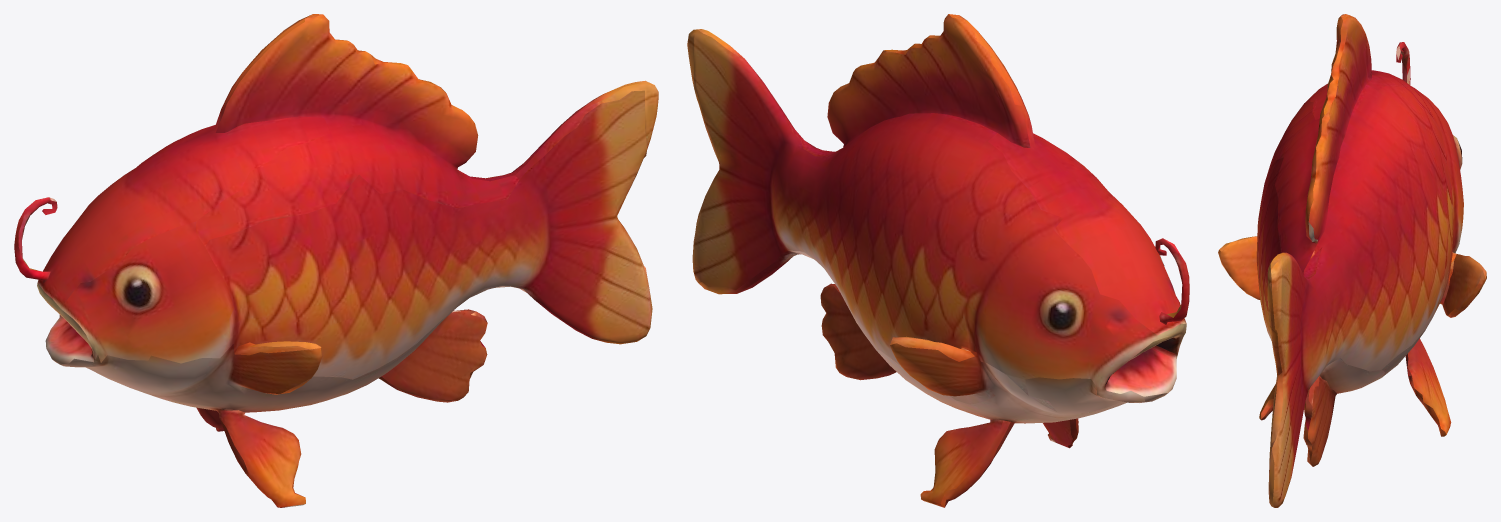
File: fish_autumn.glb
3 views of the same model, side by side, from view 1: azimuth 30°, elevation 25°; view 2: azimuth 150°, elevation 25°; view 3: azimuth 270°, elevation 25° (orthographic). The views are drawn at different scales.
Visible parts, largest first — view 1: item_fish_autumn; view 2: item_fish_autumn; view 3: item_fish_autumn.
Part boxes in pixels (x1,y1,x2,y2): item_fish_autumn: [14, 14, 658, 507]; item_fish_autumn: [687, 14, 1189, 507]; item_fish_autumn: [1218, 14, 1486, 507].
Size of the model in its own units: 1 by 0.7418 by 0.4212.
1 material, 1 textured.
